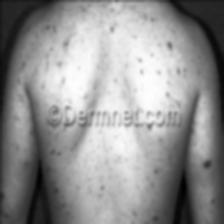Non-Cancerous Skin Condition: (25, 22, 94, 88), (133, 19, 188, 80), (40, 143, 72, 202), (192, 139, 220, 186), (0, 183, 12, 224)
